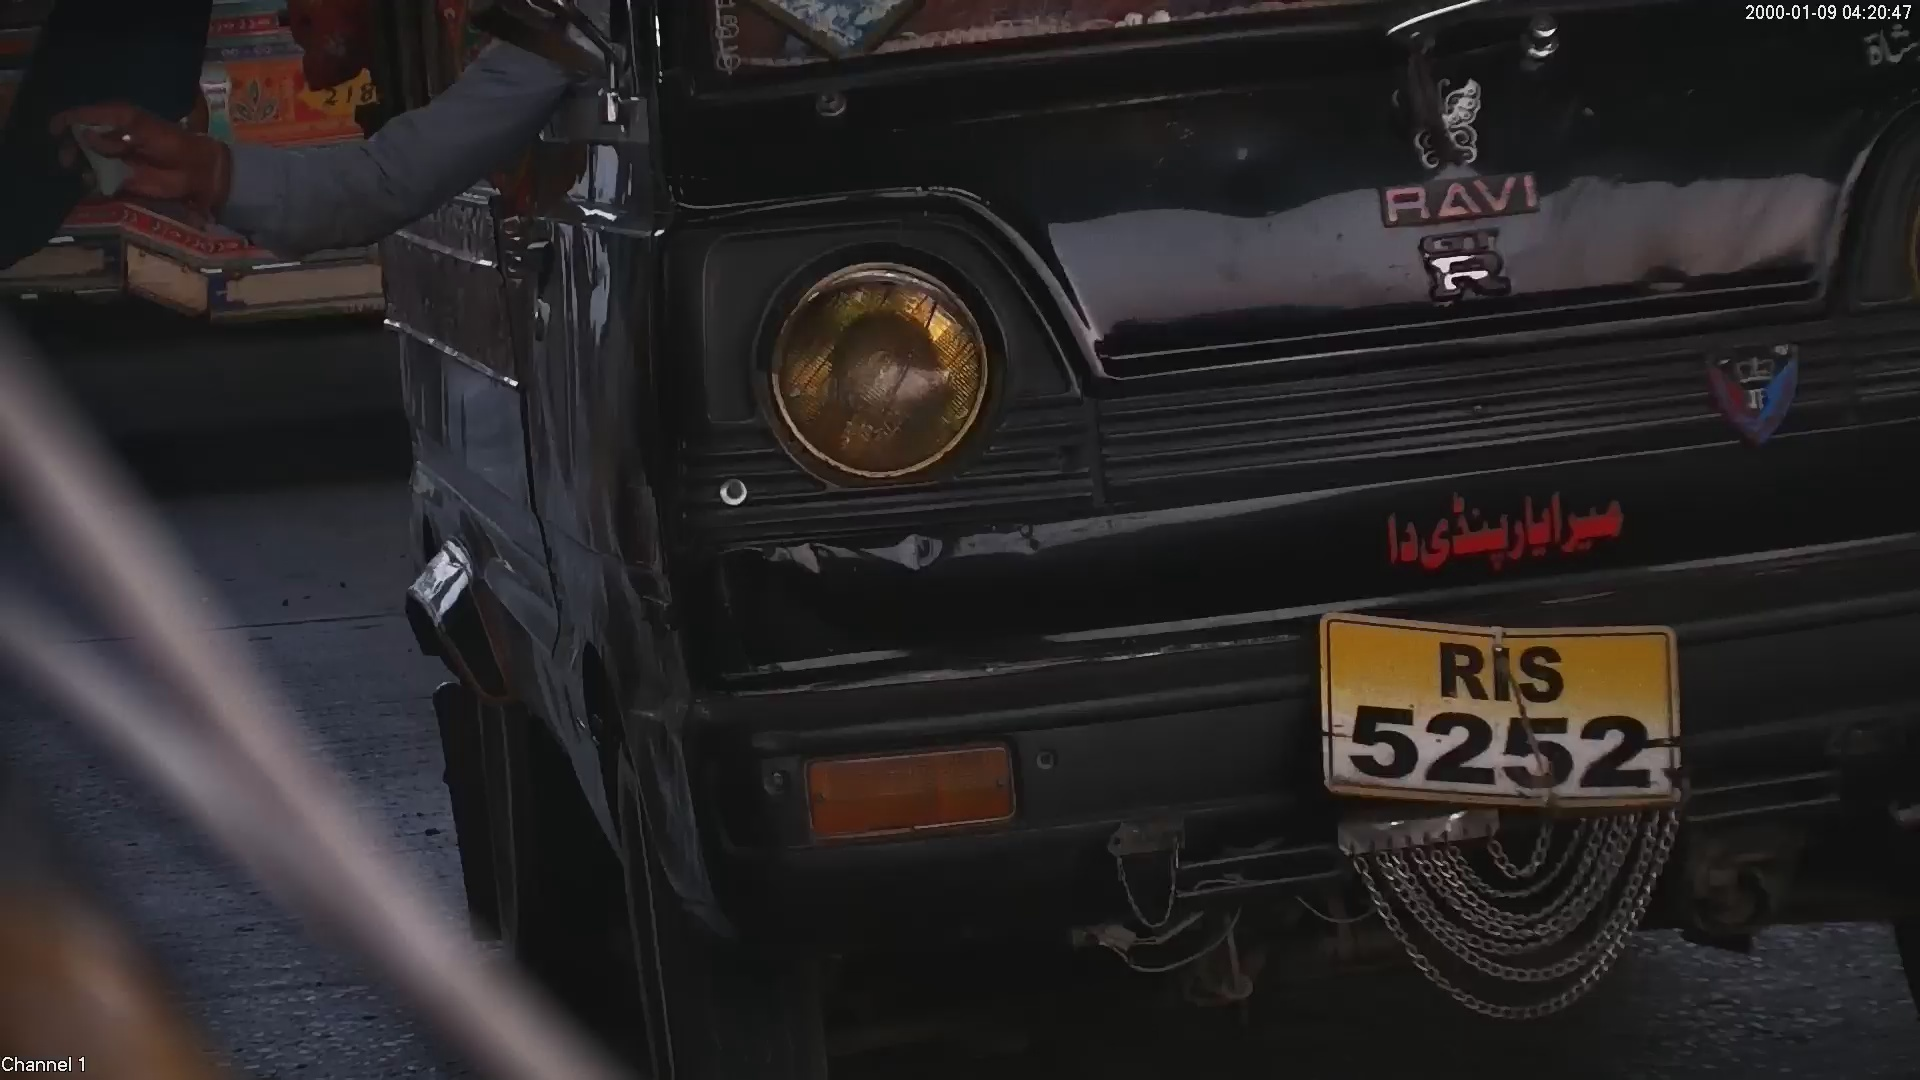Number_Plate: (1289, 596, 1715, 801)
Undefined: (1330, 820, 1693, 1016), (1371, 70, 1558, 303), (1356, 486, 1643, 555), (1708, 336, 1821, 446)
